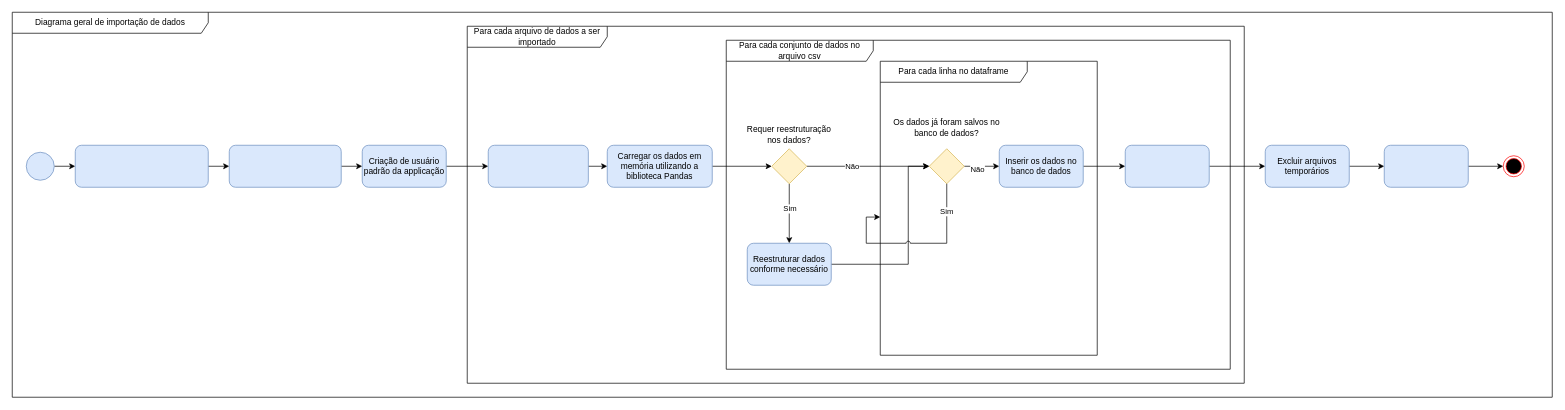
Some shapes in this 1565 by 410 pixel diagram are drawn without their labels. The centre of each missing label's shape, as x and y in pixels:
"Criação de pastas temporárias utilizadas na importação de dados" belongs at pixel 285 166.
"Criação do banco de dados SQLite, assim como todas as tabelas do projeto" belongs at pixel 141 166.
"Download do arquivo csv com od dados para importação" belongs at pixel 538 166.
"Encerrar conexão com o banco de dados" belongs at pixel 1426 166.
"Realizar o commit da transação" belongs at pixel 1167 166.
